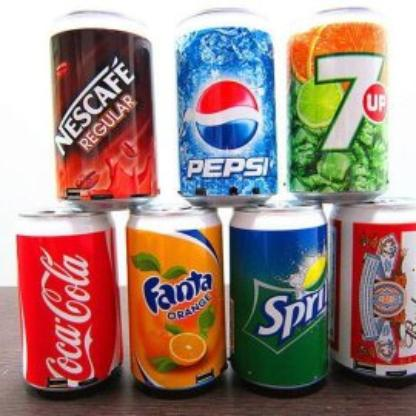Can: (51, 11, 158, 215), (176, 9, 277, 206), (288, 7, 388, 202), (128, 197, 226, 394), (232, 197, 328, 393), (19, 212, 122, 390), (332, 198, 416, 384)
